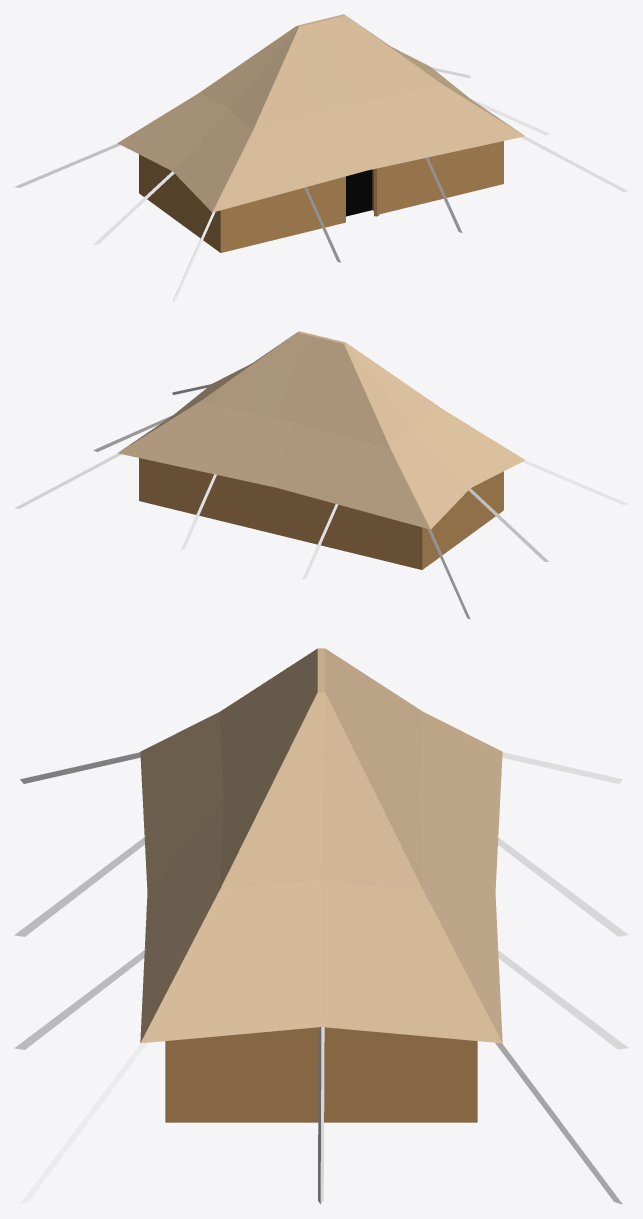
File: tent-bloemfontein-big.glb
The picture shows the model from 3 angles, top to bottom: view 1: azimuth 30°, elevation 25°; view 2: azimuth 150°, elevation 25°; view 3: azimuth 270°, elevation 25°; orthographic projection. The views are drawn at different scales.
Visible parts, largest first — view 1: tent-bloemfontein-big; view 2: tent-bloemfontein-big; view 3: tent-bloemfontein-big.
Boxes of the visible parts, x1,y1,x2,y2 form: tent-bloemfontein-big: (14, 14, 628, 302); tent-bloemfontein-big: (14, 331, 627, 619); tent-bloemfontein-big: (14, 648, 628, 1204).
Size of the model in its own units: 11.29 by 3.99 by 6.9.
1 material, 1 textured.
